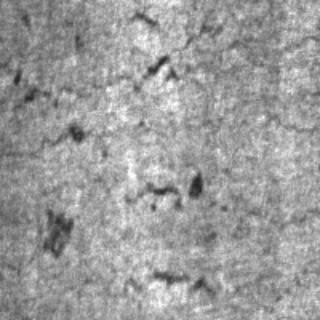crazing: (74, 162, 242, 298), (4, 40, 200, 150), (210, 4, 318, 140)
